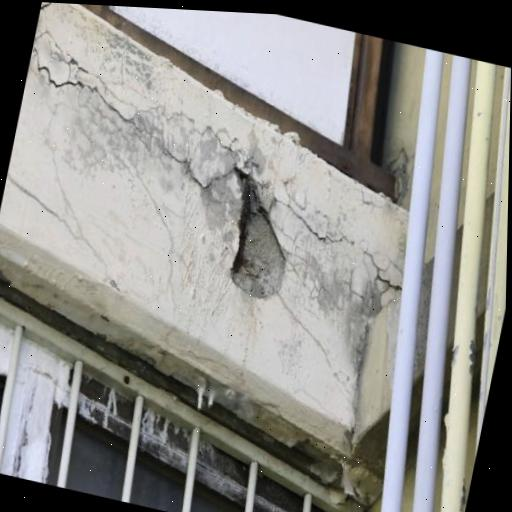exposed_rebar: (231, 177, 250, 273)
spalling: (231, 169, 285, 298)
